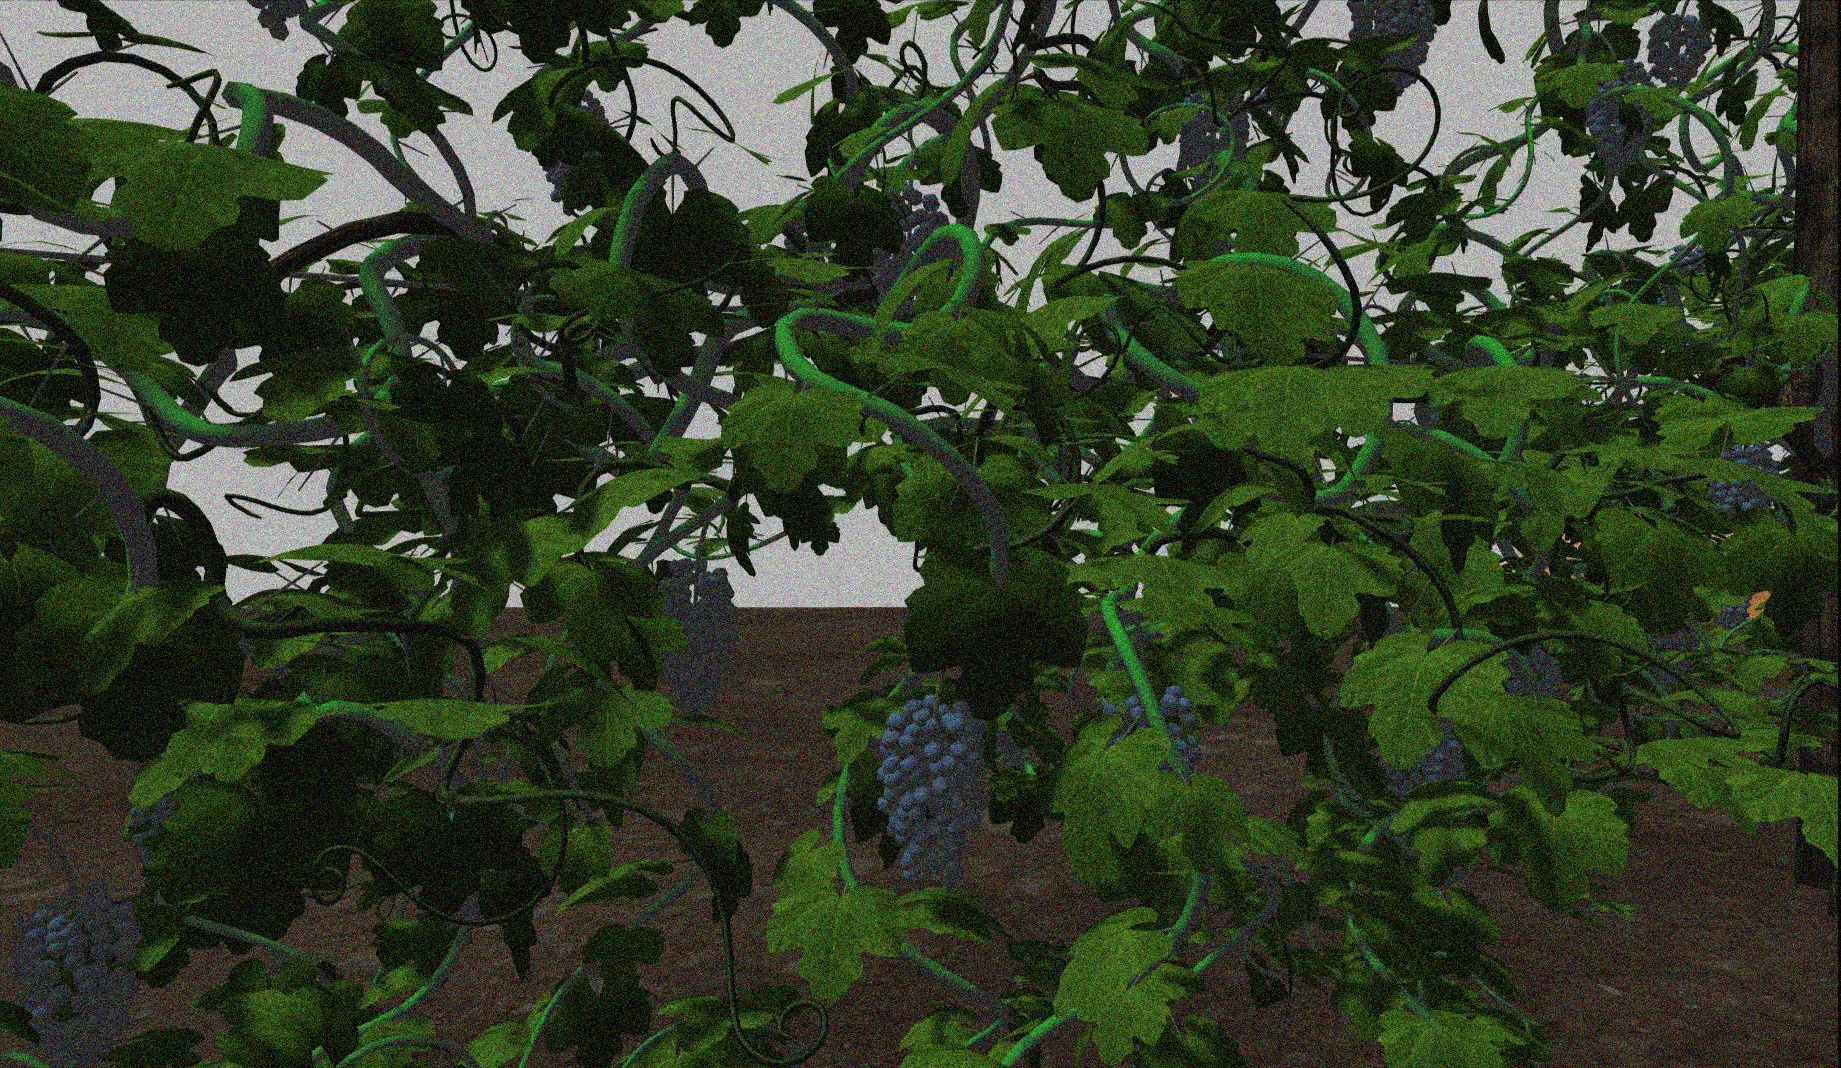grape: (11, 876, 141, 1065), (873, 699, 987, 891), (646, 566, 743, 716), (1346, 3, 1439, 94), (1584, 67, 1655, 174), (1179, 94, 1249, 184), (1710, 442, 1777, 516), (1644, 17, 1714, 86)
